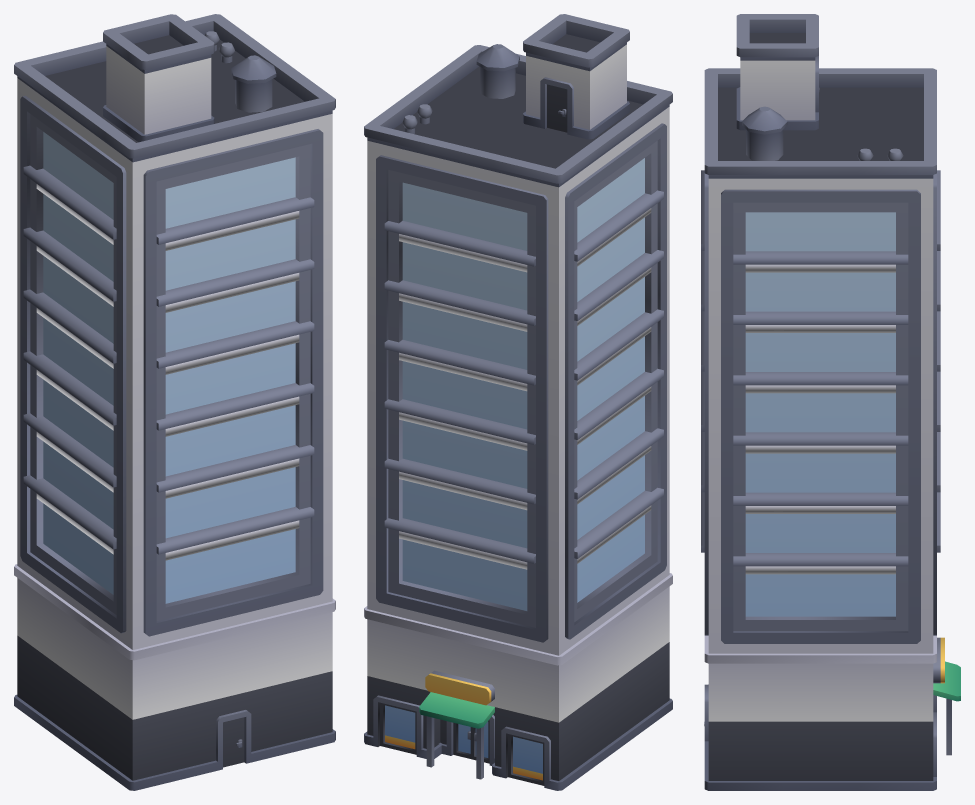
The model's file is c_building-skyscraper-c.glb.
3 renders of one model, left to right at view 1: azimuth 30°, elevation 25°; view 2: azimuth 150°, elevation 25°; view 3: azimuth 270°, elevation 25°, orthographic. The views are drawn at different scales.
Parts seen in each view (by area): view 1: building-skyscraper-c; view 2: building-skyscraper-c; view 3: building-skyscraper-c.
Part boxes in pixels (box(x1,y1,x2,y2)): building-skyscraper-c: box(14, 14, 335, 790); building-skyscraper-c: box(364, 14, 672, 790); building-skyscraper-c: box(701, 14, 960, 790).
Bounding box in the file's own units: 1.28 × 4.08 × 1.39.
1 material, 1 textured.
